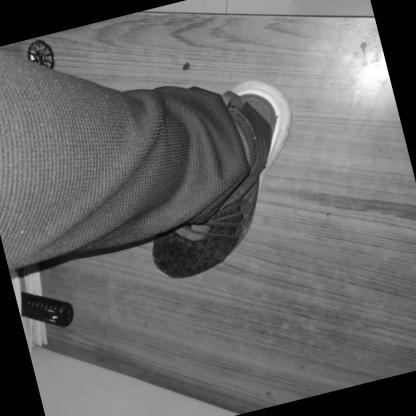ankle: (241, 179, 248, 184)
heel: (271, 88, 277, 95)
left_foot: (118, 72, 326, 284)
pinky: (199, 266, 204, 271)
toe: (155, 249, 160, 254)
